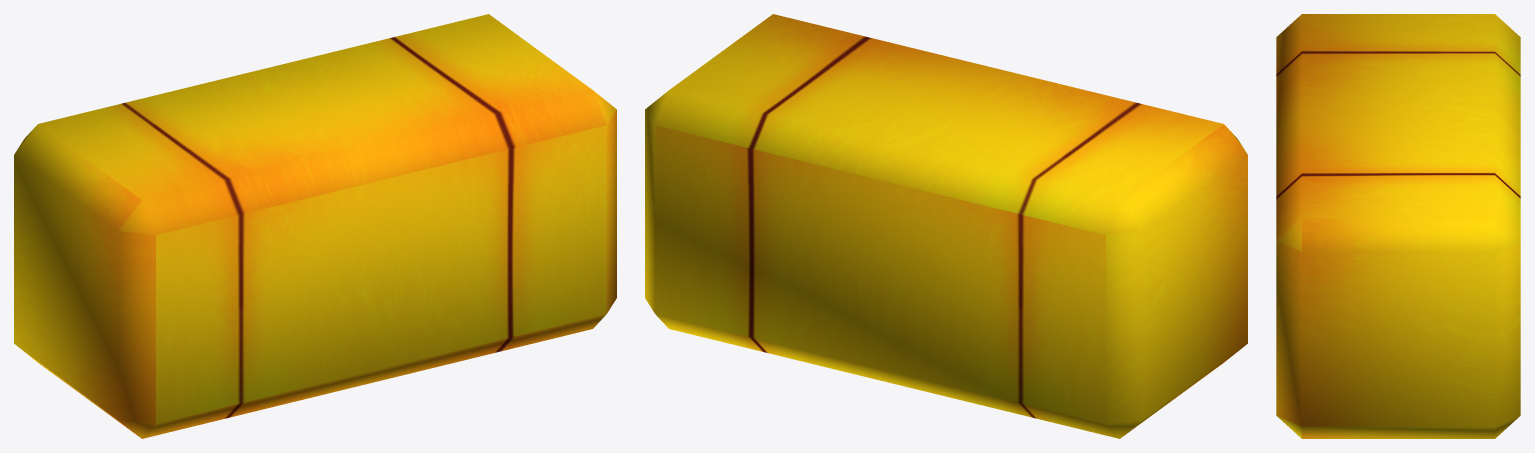
File: HayStack01.FBX
3 views of the same model, side by side, from view 1: azimuth 30°, elevation 25°; view 2: azimuth 150°, elevation 25°; view 3: azimuth 270°, elevation 25° (orthographic). The views are drawn at different scales.
Visible parts, largest first — view 1: HayStack01; view 2: HayStack01; view 3: HayStack01.
Part boxes in pixels (left/top/right/bottom): HayStack01: left=14, top=14, right=616, bottom=438; HayStack01: left=645, top=14, right=1247, bottom=438; HayStack01: left=1276, top=14, right=1520, bottom=438.
Bounding box in the file's own units: 20.92 × 9.57 × 9.57.
